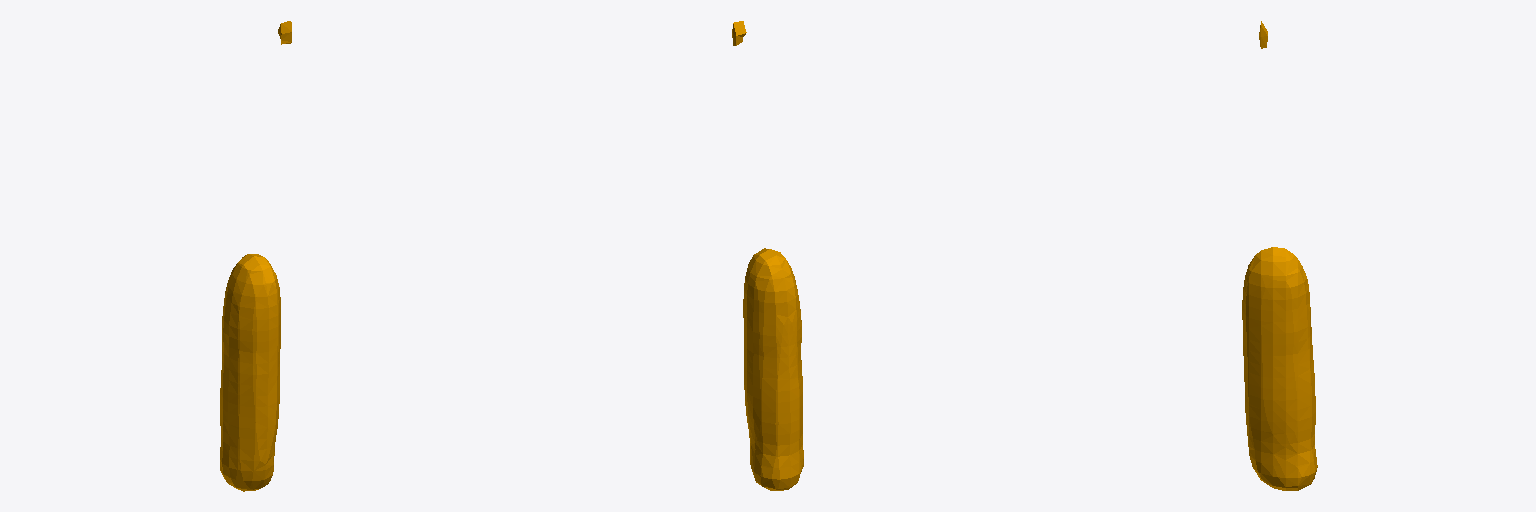
robot.urdf — 032_knife:
<?xml version="1.0"?>
<robot name="032_knife">
  <link name="base_link">
    <inertial>
      <origin xyz="0.001866 -0.000767 0.040592" rpy="0 0 0" />
      <mass value="0.021223" />
      <inertia ixx="0.00001087" ixy="-0.00000001" ixz="-0.00000015"
               iyy="0.00001069" iyz="0.00000042" izz="0.00000096" />
    </inertial>
    <visual>
      <geometry><mesh filename="032_knife.stl" scale="1.0 1.0 1.0" /></geometry>
    </visual>
    <collision>
      <geometry><mesh filename="032_knife_col.obj" scale="1.0 1.0 1.0" /></geometry>
    </collision>
    <contact>
      <lateral_friction value="1.0"/>
    </contact>
  </link>
</robot>

--- What the picture shows (computed from the rendered views, not written in the file) ---
Views: 3 orthographic renders of the robot side by side, from view 1: azimuth 30°, elevation 25°; view 2: azimuth 210°, elevation 25°; view 3: azimuth 270°, elevation 25°.
Robot: 032_knife — 1 links, 0 joints (none); root link base_link; default pose: every joint at zero.
Links seen in each view (by area): view 1: base_link; view 2: base_link; view 3: base_link.
Boxes of the visible links, <box> form: base_link: <box>220,21,291,491</box>; base_link: <box>732,21,803,490</box>; base_link: <box>1242,21,1317,490</box>.
Size in the robot's own frame: 0.0211 by 0.0235 by 0.1646 metres.
1 mesh visuals loaded from 1 distinct referenced files (1 binary STL).
